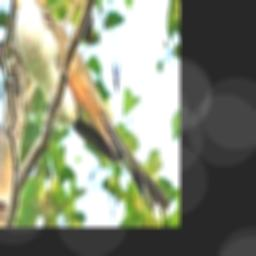Cuckoo: (5, 0, 170, 218)
